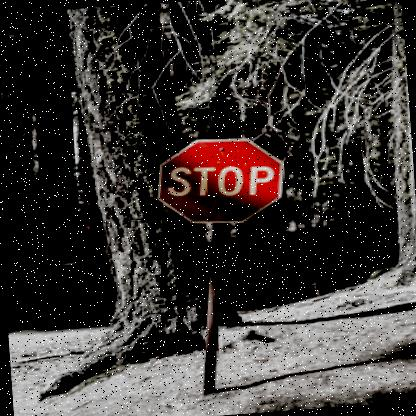stop: (150, 133, 284, 230)
